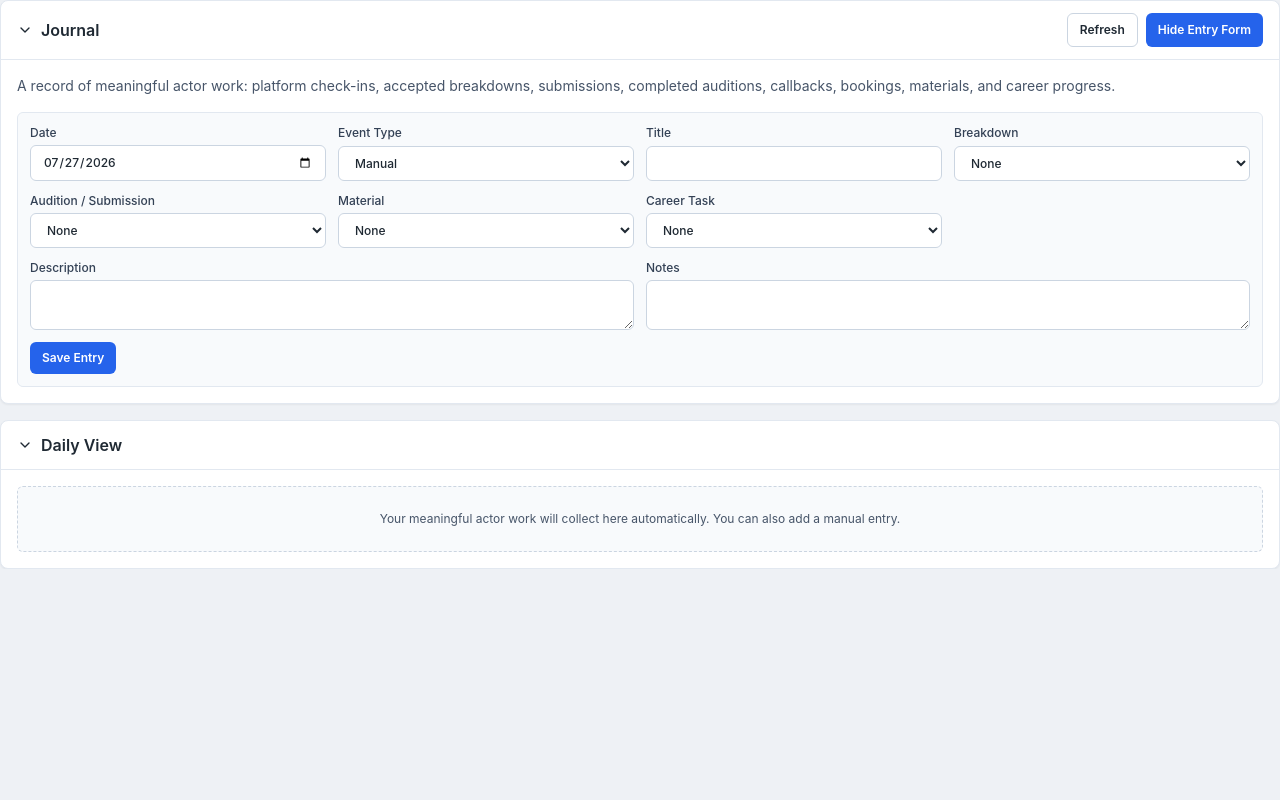
Test case: JournalPanel server state › creates an entry through the Journal mutation without a workflow reload
Type "Self-tape submitted" into the field labelled "Title" at (794, 164), box [646, 146, 942, 181]
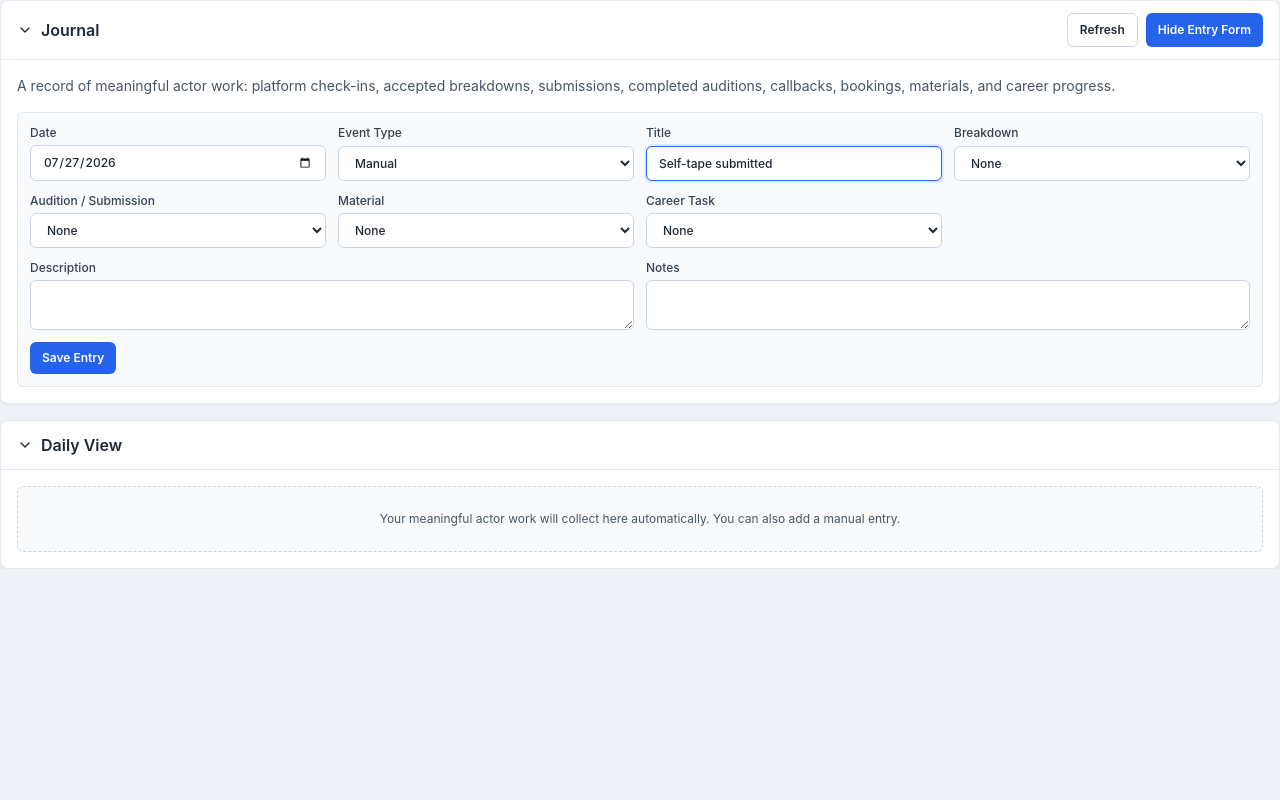
Click the button "Save Entry" at (73, 358), box [30, 342, 116, 374]
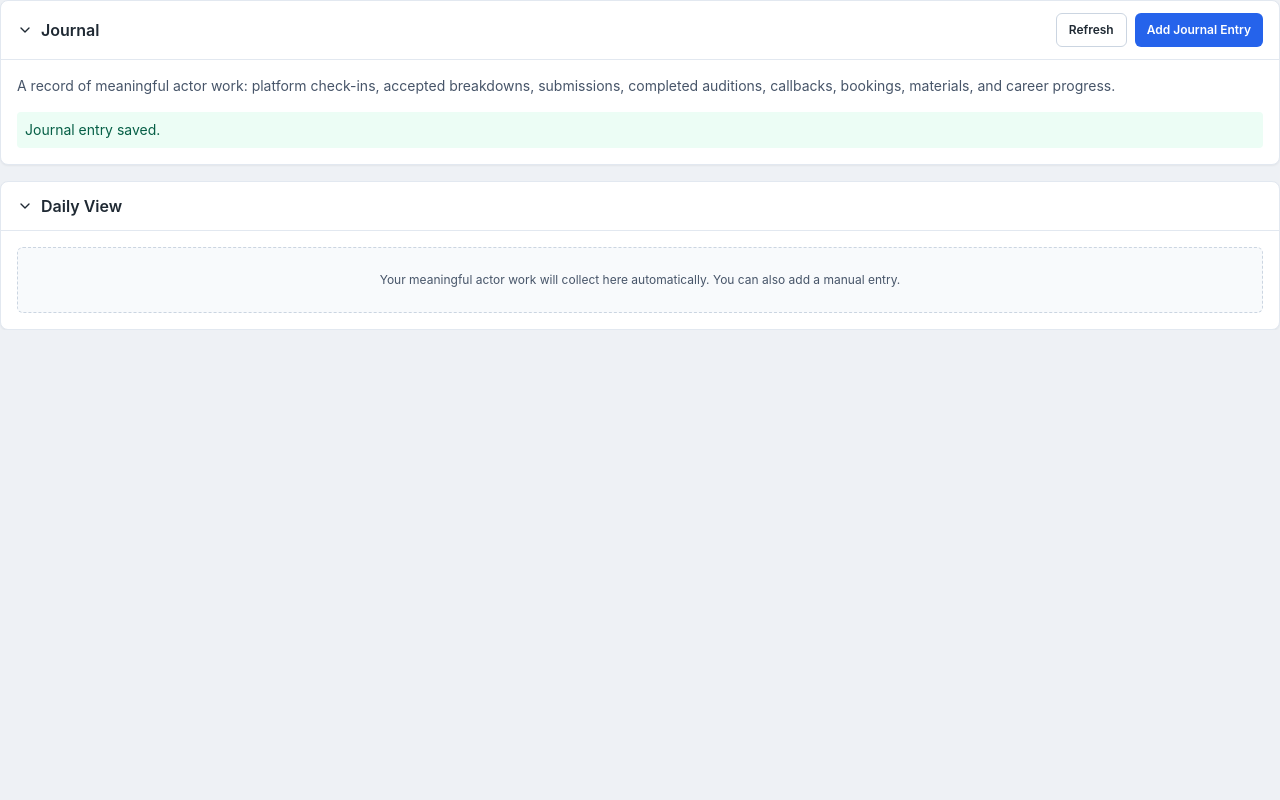
Now the text "Journal entry saved." is shown, box [17, 112, 1263, 148]
